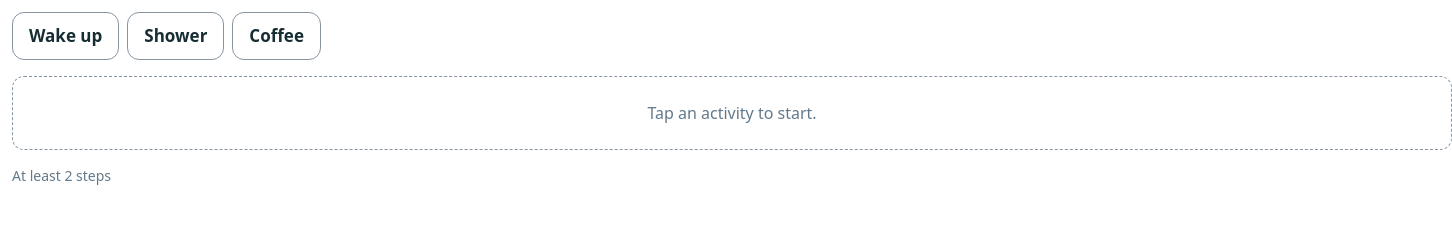
Test: TraceEditor (select_sort) › keeps chips enabled when repeats are allowed
Click the button with aria-label "Add Coffee".
click(277, 36)  # box [232, 12, 321, 60]
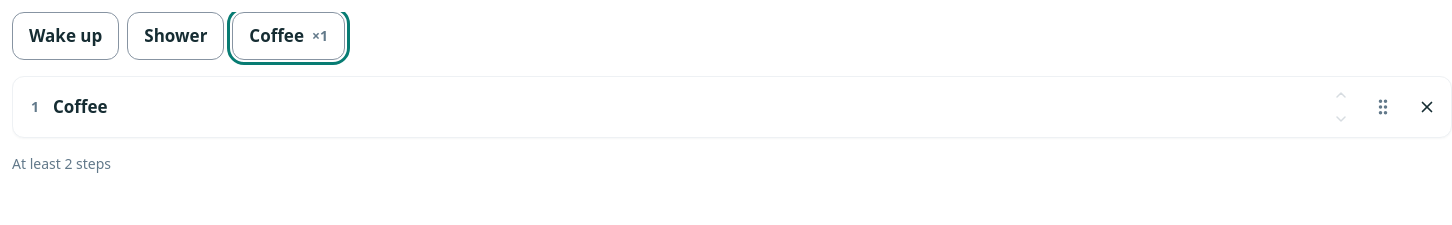
Click the button with aria-label "Add Coffee".
click(289, 36)  # box [232, 12, 345, 60]
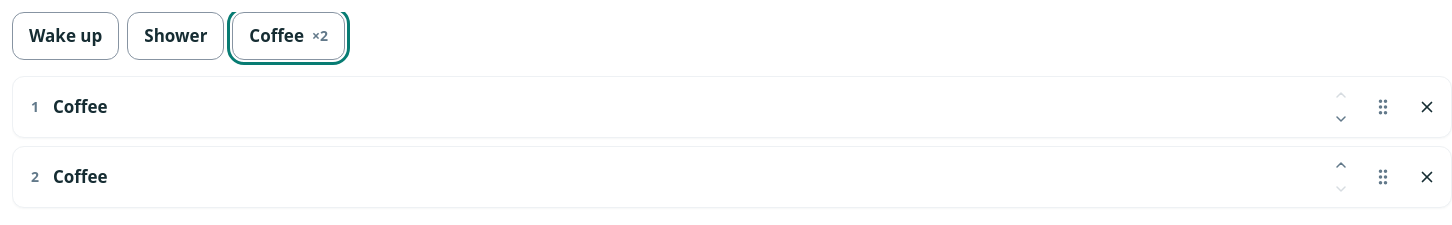
Expected: the number of list items with test id "trace-item" is 2, [12, 76, 1451, 138]; [12, 146, 1451, 208]
